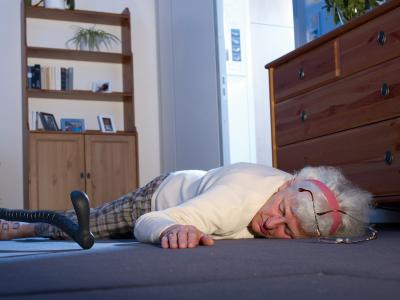collapsed: (4, 132, 400, 285)
